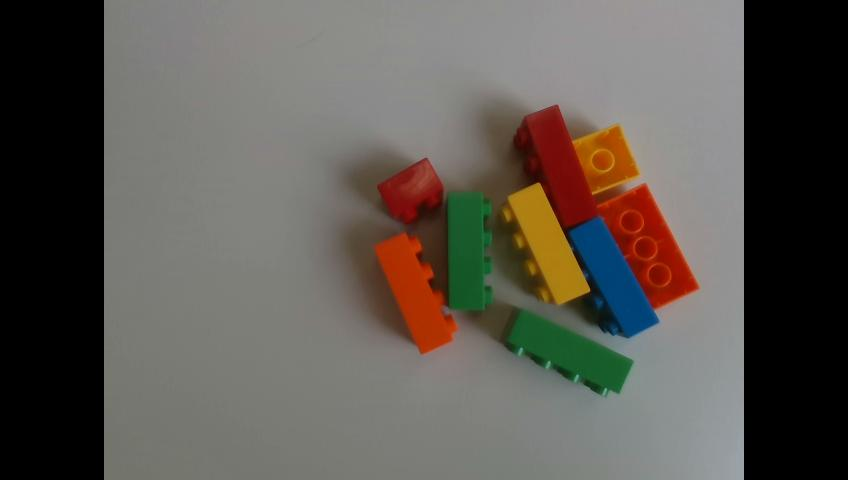2x2_red: (378, 157, 443, 228)
2x2_yellow: (570, 122, 641, 195)
4x2_blue: (567, 218, 662, 338)
4x2_green: (501, 309, 636, 399), (448, 191, 495, 311)
4x2_orange: (595, 182, 702, 308), (373, 231, 462, 355)
4x2_red: (512, 102, 599, 231)
4x2_yellow: (500, 183, 593, 306)
